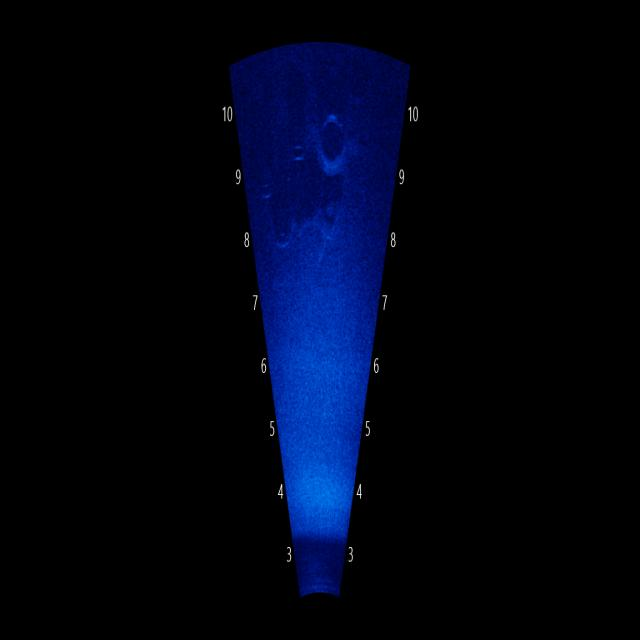circle: (308, 86, 358, 184)
